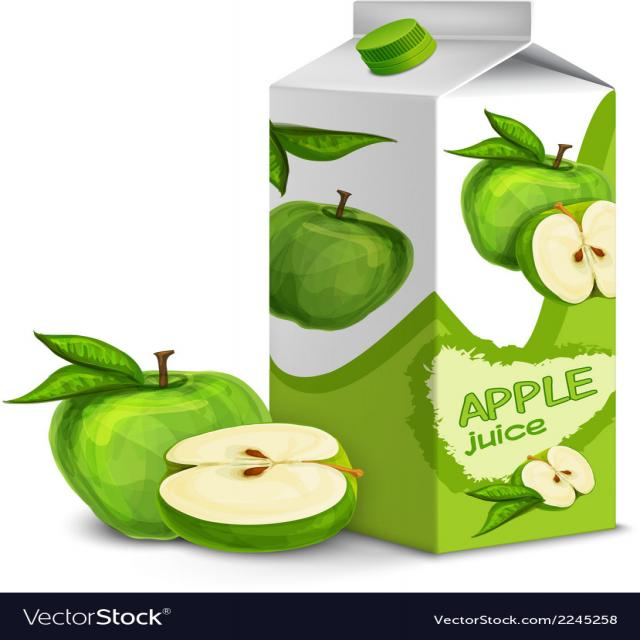non_white_jug: (236, 0, 620, 548)
